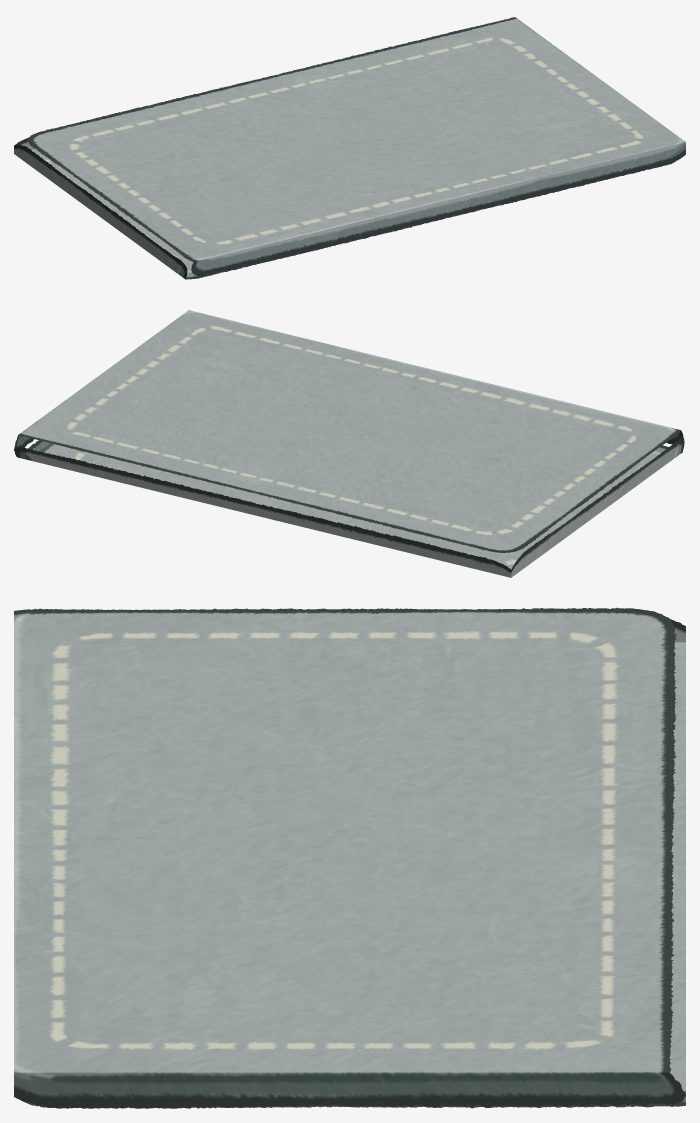
3 views of the same model, one above another, from view 1: azimuth 30°, elevation 25°; view 2: azimuth 150°, elevation 25°; view 3: azimuth 270°, elevation 25° (orthographic). The views are drawn at different scales.
Parts seen in each view (by area): view 1: 立方体; view 2: 立方体; view 3: 立方体.
Part boxes in pixels (<box>): 立方体: <box>14,17,685,279</box>; 立方体: <box>14,310,684,577</box>; 立方体: <box>14,607,685,1108</box>.
Bounding box in the file's own units: 2473 × 88.42 × 1506.
Materials: 1 (1 with a texture image).
